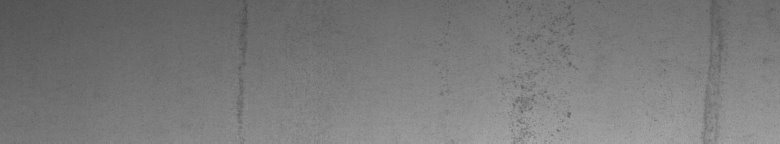ib: (508, 12, 579, 136)
